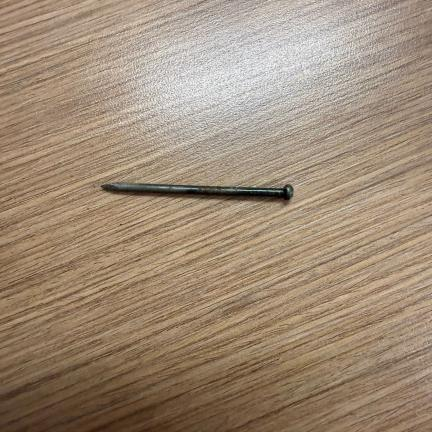besi_tidak_karat: (101, 183, 293, 200)
